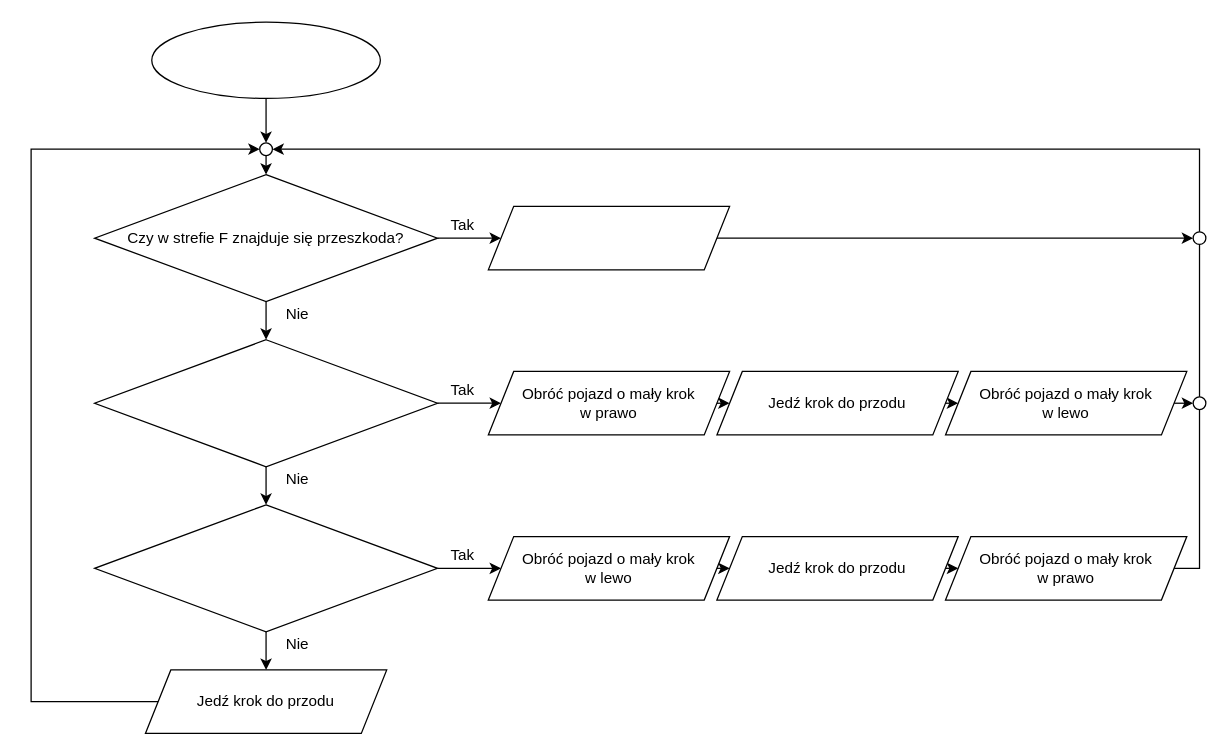
This 1232x756 diagram has some shape labels left out. Each missing label, with the centre of its shape:
Czy w strefie L1 znajduje się przeszkoda?: (265,402)
Czy w strefie L2 znajduje się przeszkoda?: (265,568)
Obróć pojazd o duży krok w prawo: (608,237)
Start: (265,59)
